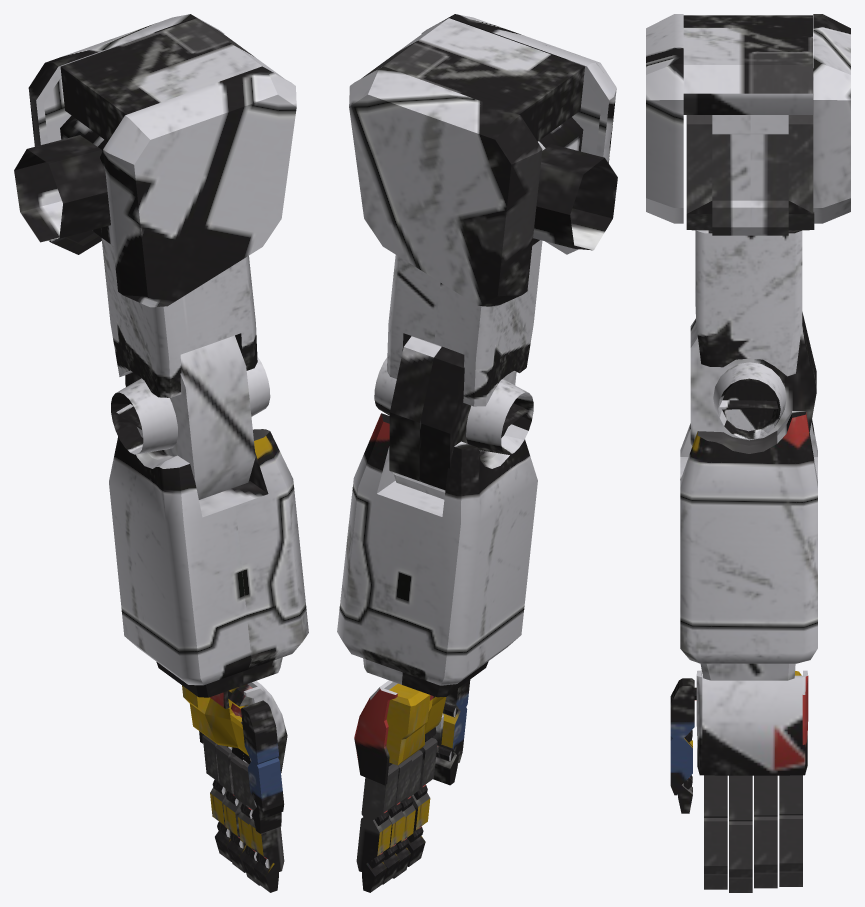
File: HandB.obj
The picture shows the model from 3 angles, left to right: view 1: azimuth 30°, elevation 25°; view 2: azimuth 150°, elevation 25°; view 3: azimuth 270°, elevation 25°; orthographic projection. The views are drawn at different scales.
Parts seen in each view (by area): view 1: Gundam:polySurface666; view 2: Gundam:polySurface666; view 3: Gundam:polySurface666.
Boxes of the visible parts, bbox=[...] form: Gundam:polySurface666: bbox=[14, 14, 308, 892]; Gundam:polySurface666: bbox=[337, 14, 617, 892]; Gundam:polySurface666: bbox=[646, 14, 850, 892].
Size of the model in its own units: 3.52 by 12.02 by 2.73.
